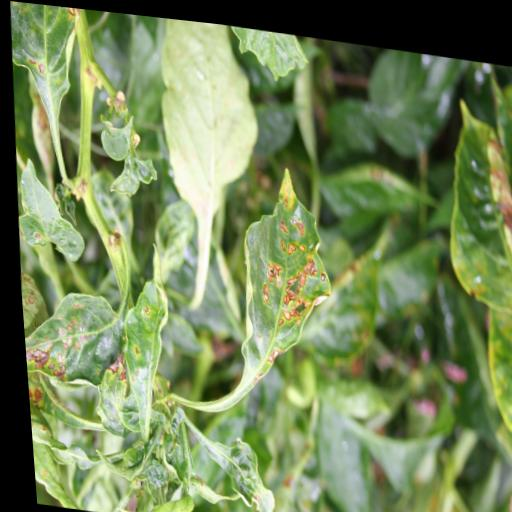Bacterial Spot: (204, 148, 343, 405), (427, 75, 512, 322), (104, 264, 181, 430), (17, 282, 115, 410)
